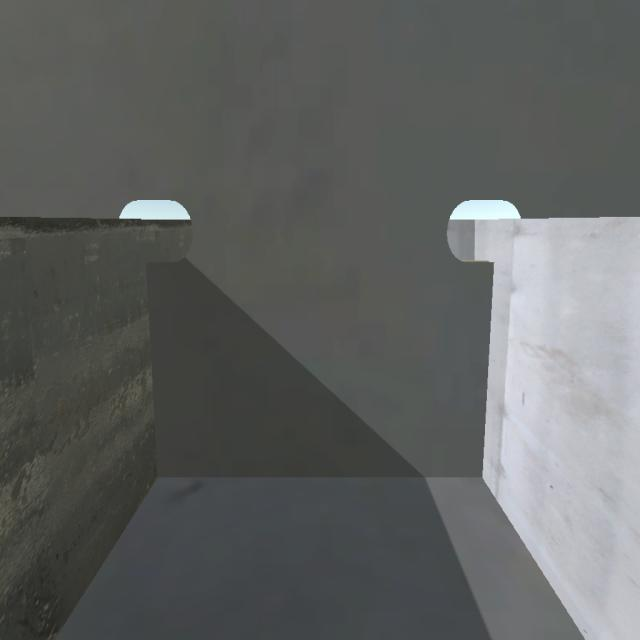fillet_yong_jeop_jang: (147, 459, 495, 494)
longi_yong_jeop_jang: (478, 252, 497, 483), (146, 247, 164, 479)
